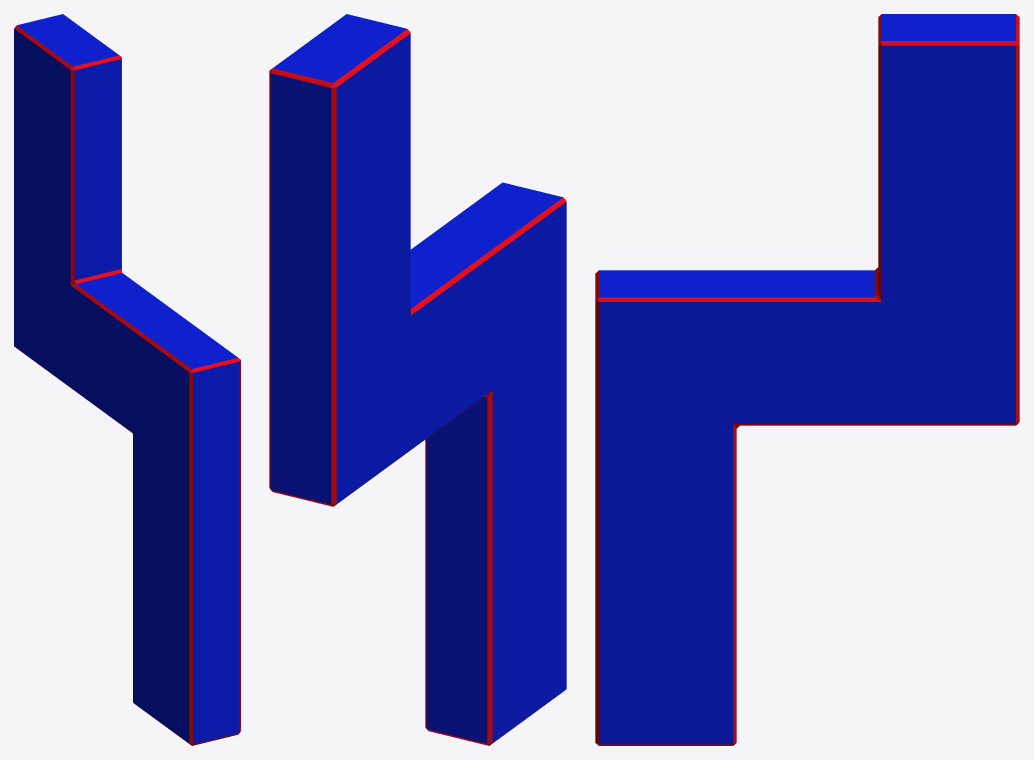
Rendered from L7_Cross_Platform.fbx.
3 renders of one model, left to right at view 1: azimuth 30°, elevation 25°; view 2: azimuth 150°, elevation 25°; view 3: azimuth 270°, elevation 25°, orthographic. The views are drawn at different scales.
Parts seen in each view (by area): view 1: L7_Cross_Platform; view 2: L7_Cross_Platform; view 3: L7_Cross_Platform.
Boxes of the visible parts, box(x1,y1,x2,y2) form: L7_Cross_Platform: box(14, 14, 240, 745); L7_Cross_Platform: box(269, 14, 566, 745); L7_Cross_Platform: box(595, 14, 1019, 745).
Size of the model in its own units: 100 by 1100 by 600.
